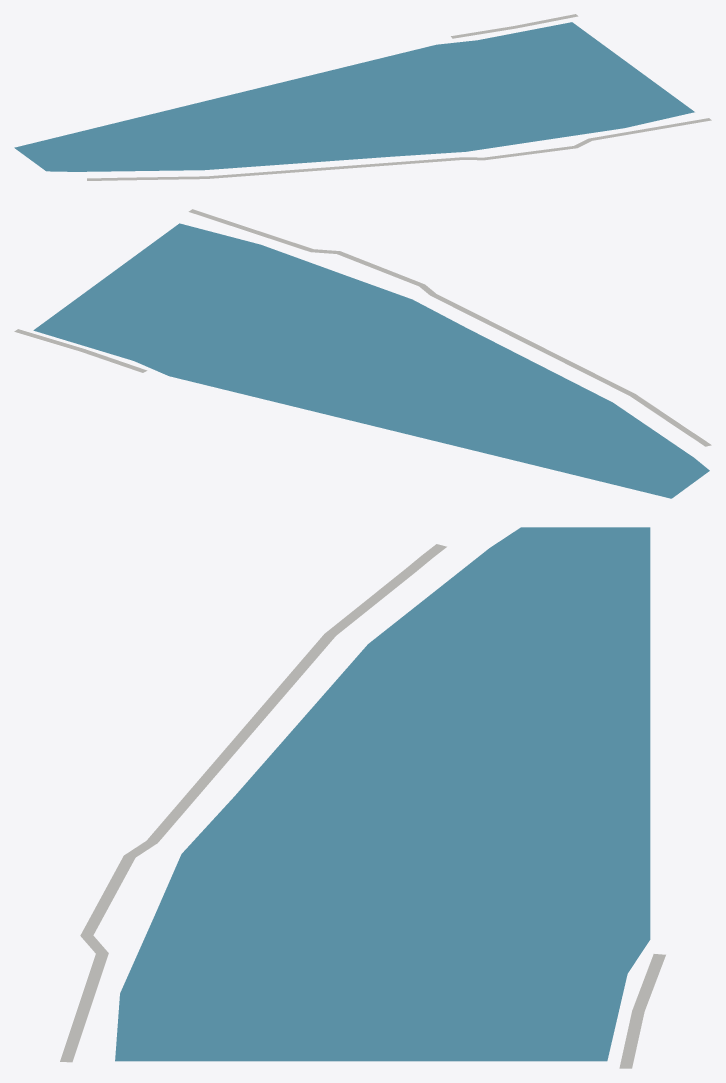
Rendered from tile_-12_6.glb.
3 renders of one model, top to bottom at view 1: azimuth 30°, elevation 25°; view 2: azimuth 150°, elevation 25°; view 3: azimuth 270°, elevation 25°, orthographic. The views are drawn at different scales.
Visible parts, largest first — view 1: nature_water, roads_sidewalk; view 2: nature_water, roads_sidewalk; view 3: nature_water, roads_sidewalk.
Boxes of the visible parts, bbox=[...] form: nature_water: bbox=[14, 22, 694, 171]; roads_sidewalk: bbox=[87, 14, 711, 180]; nature_water: bbox=[33, 223, 709, 498]; roads_sidewalk: bbox=[14, 209, 711, 446]; nature_water: bbox=[115, 527, 650, 1061]; roads_sidewalk: bbox=[60, 544, 665, 1068].
Size of the model in its own units: 255 by 0.5 by 120.
